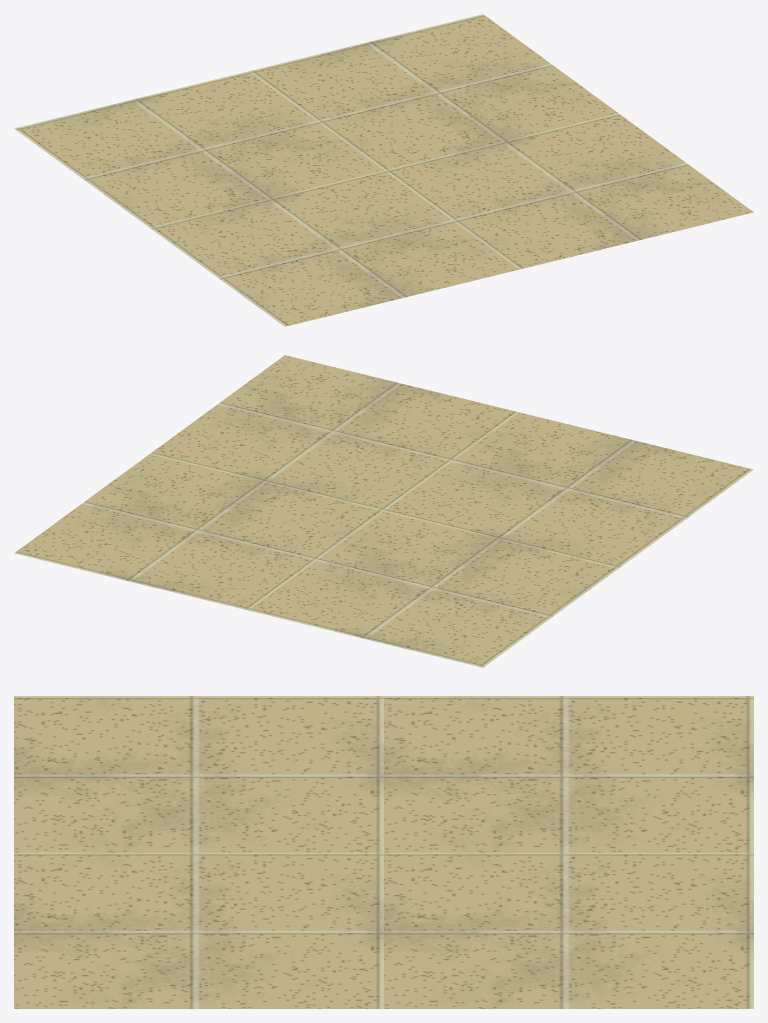
Rendered from ceiling_yellow_light.fbx.
3 views of the same model, one above another, from view 1: azimuth 30°, elevation 25°; view 2: azimuth 150°, elevation 25°; view 3: azimuth 270°, elevation 25° (orthographic). The views are drawn at different scales.
Parts seen in each view (by area): view 1: ceiling_yellow_light; view 2: ceiling_yellow_light; view 3: ceiling_yellow_light.
Part boxes in pixels (box(x1,y1,x2,y2)): ceiling_yellow_light: box(14, 14, 753, 326); ceiling_yellow_light: box(14, 355, 753, 667); ceiling_yellow_light: box(14, 696, 753, 1008).
Bounding box in the file's own units: 2 × 0.032 × 2.
